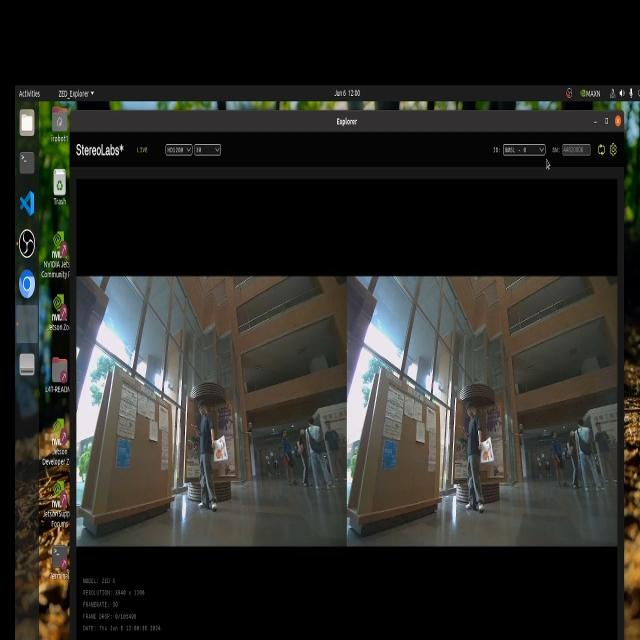red: (479, 438, 498, 462), (214, 436, 228, 460)
